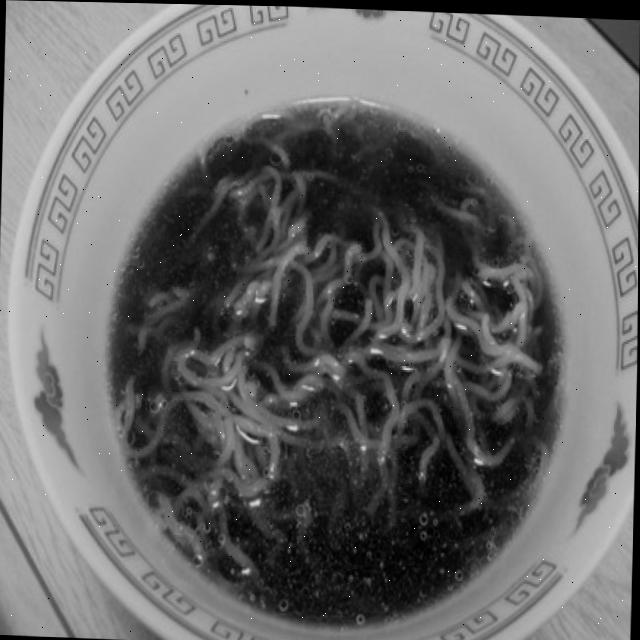面条主食: (109, 80, 574, 640)
